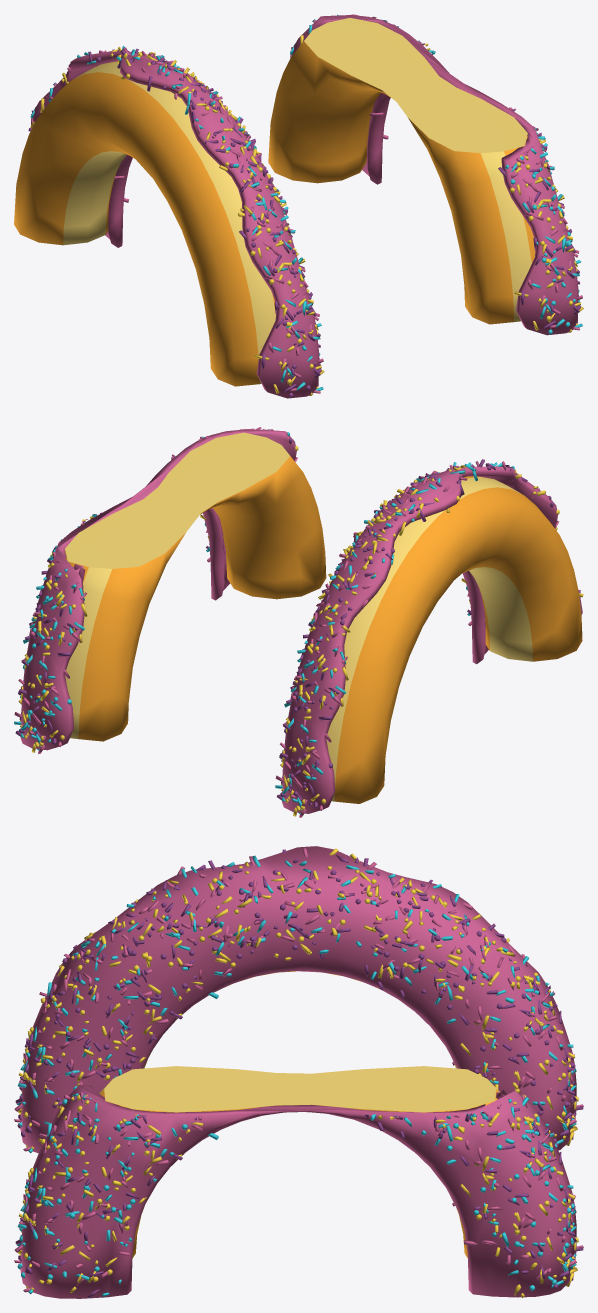
The model's file is Silindirler2.fbx.
3 views of the same model, one above another, from view 1: azimuth 30°, elevation 25°; view 2: azimuth 150°, elevation 25°; view 3: azimuth 270°, elevation 25° (orthographic). The views are drawn at different scales.
Parts seen in each view (by area): view 1: Torus.005, Torus.009; view 2: Torus.005, Torus.009; view 3: Torus.005, Torus.009.
Boxes of the visible parts, x1,y1,x2,y2 form: Torus.005: [14, 45, 324, 398]; Torus.009: [268, 14, 583, 335]; Torus.005: [275, 459, 583, 817]; Torus.009: [14, 427, 326, 753]; Torus.005: [14, 846, 583, 1153]; Torus.009: [14, 1066, 583, 1298].
Bounding box in the file's own units: 2.09 × 1.41 × 2.6.
